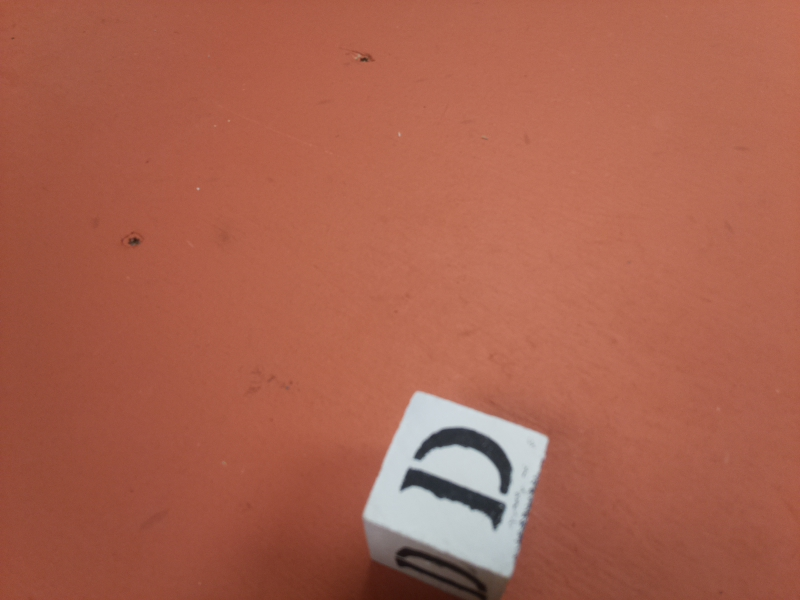blockD: (359, 389, 551, 597)
